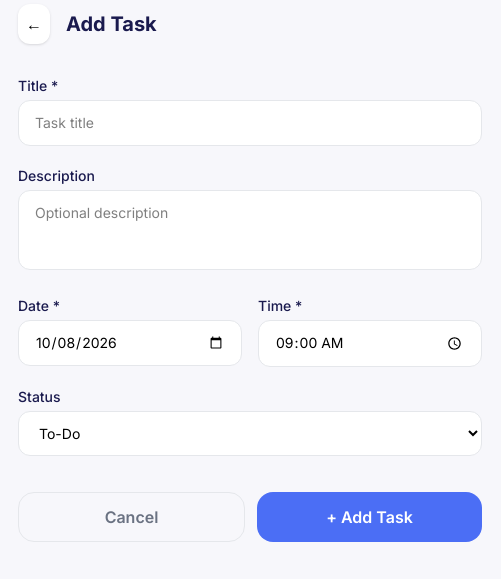
Scenario: TaskFormPage › shows "Title is required" when submitted with empty title
This screenshot has width=501, height=579.
Step 1. Click the button "+ Add Task" → (370, 517), box [257,492,482,542]
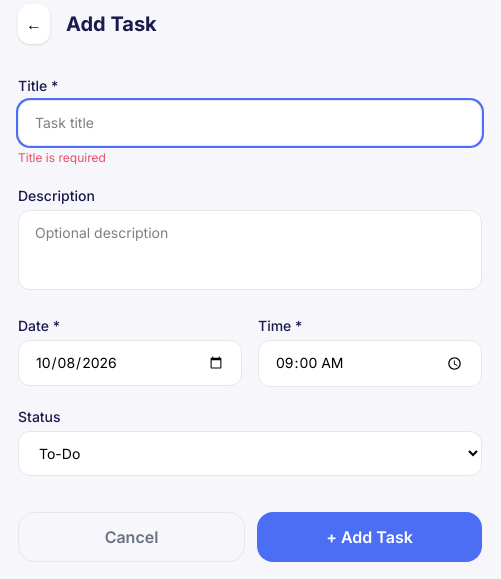
Now the message reads "Title is required", box [18,150,106,165]
